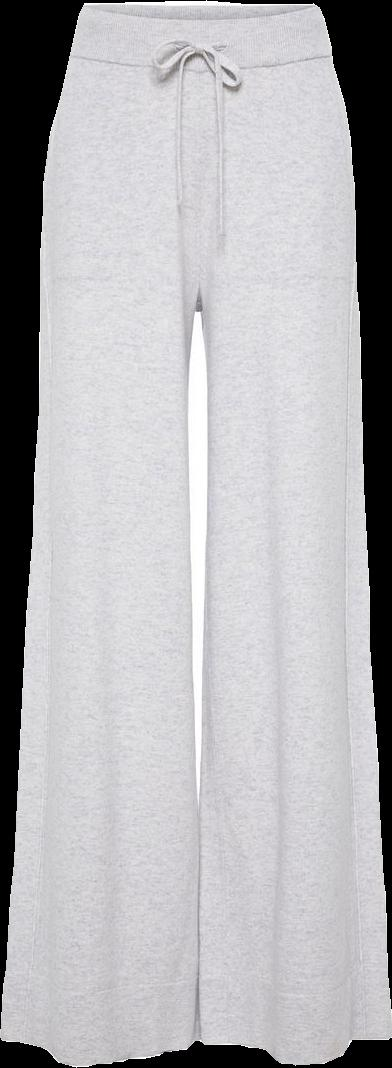Hemline: (0, 1028, 202, 1066), (196, 1028, 391, 1067)
Pantleg: (1, 2, 203, 1064), (202, 2, 391, 1064)
Waistline: (64, 47, 330, 81), (80, 0, 316, 26)
